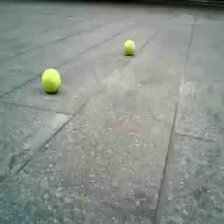tennis: (42, 68, 60, 90), (124, 40, 135, 55)
